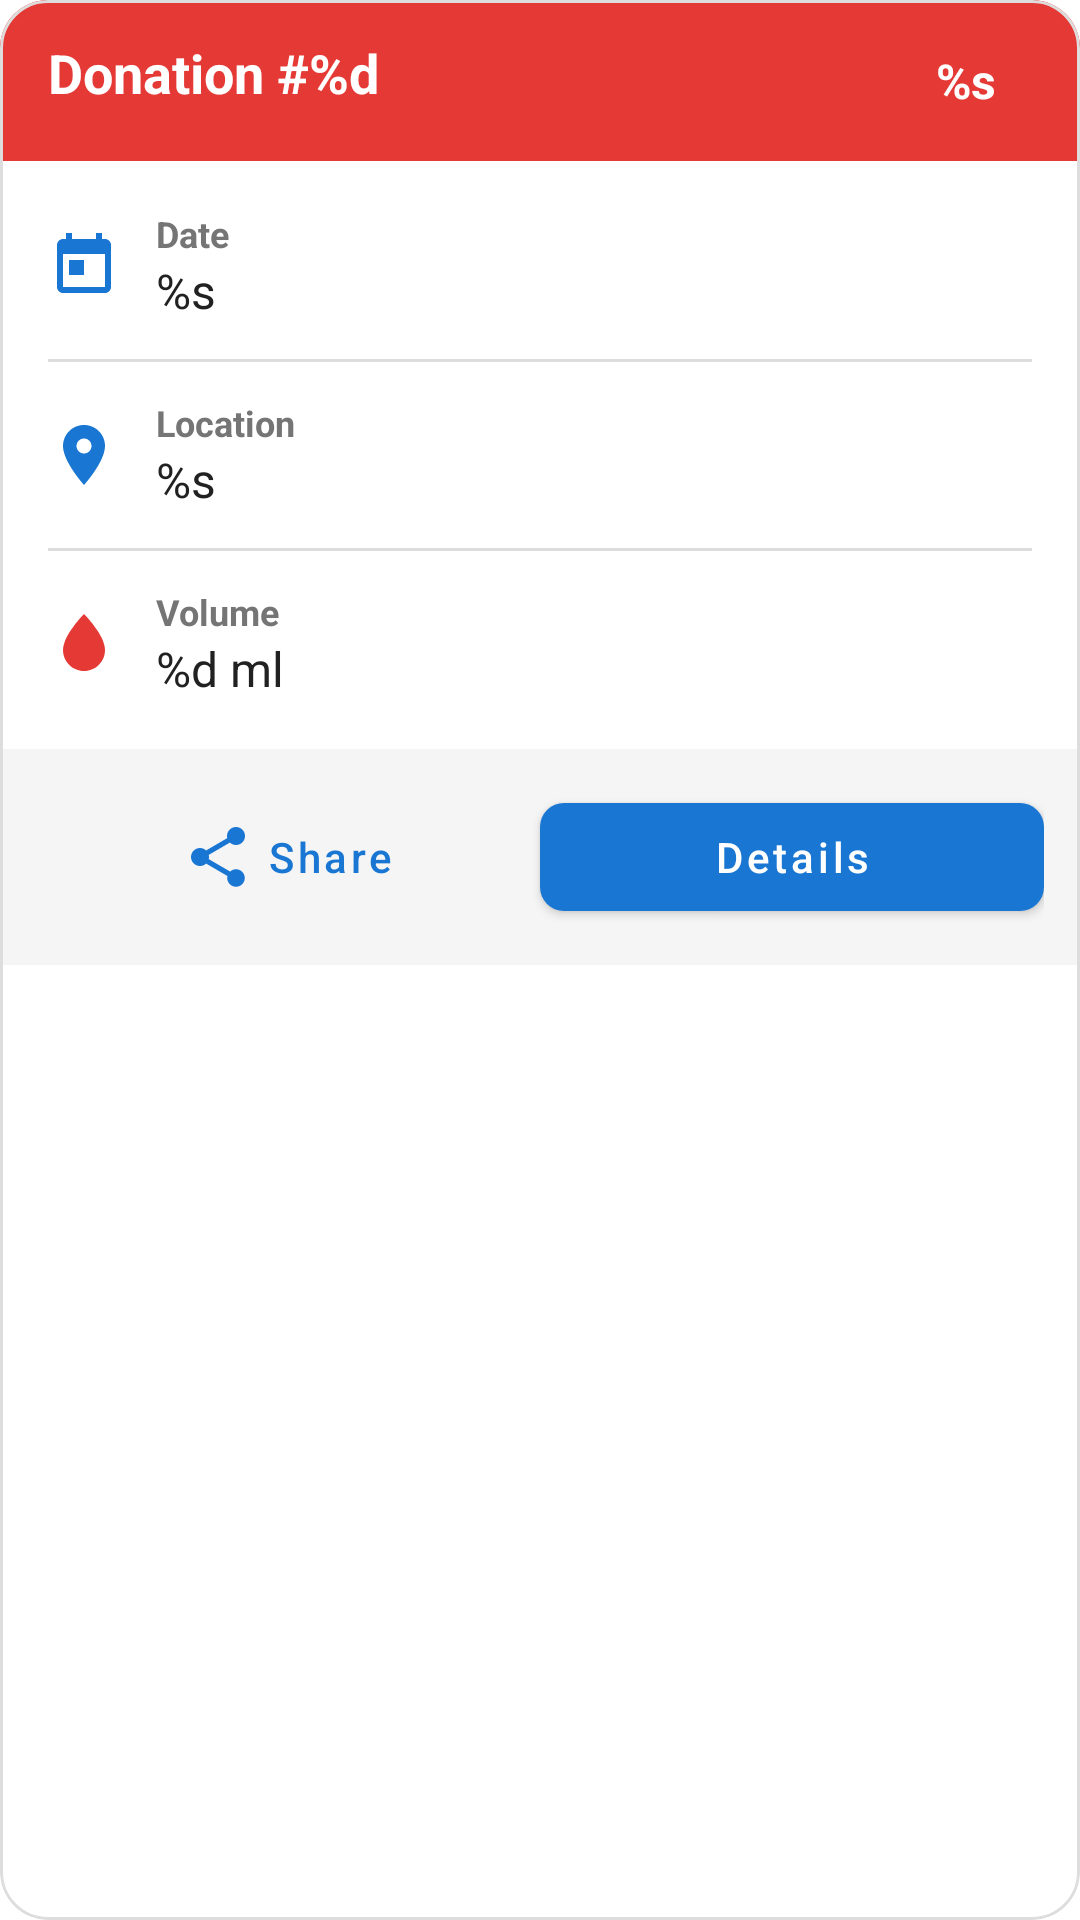

Named icons in this screenshot (1080×1920) and their bounding boxes, bbox(x1, y1, x2, y2):
blood drop: bbox(63, 614, 105, 671)
calendar: bbox(57, 233, 111, 293)
